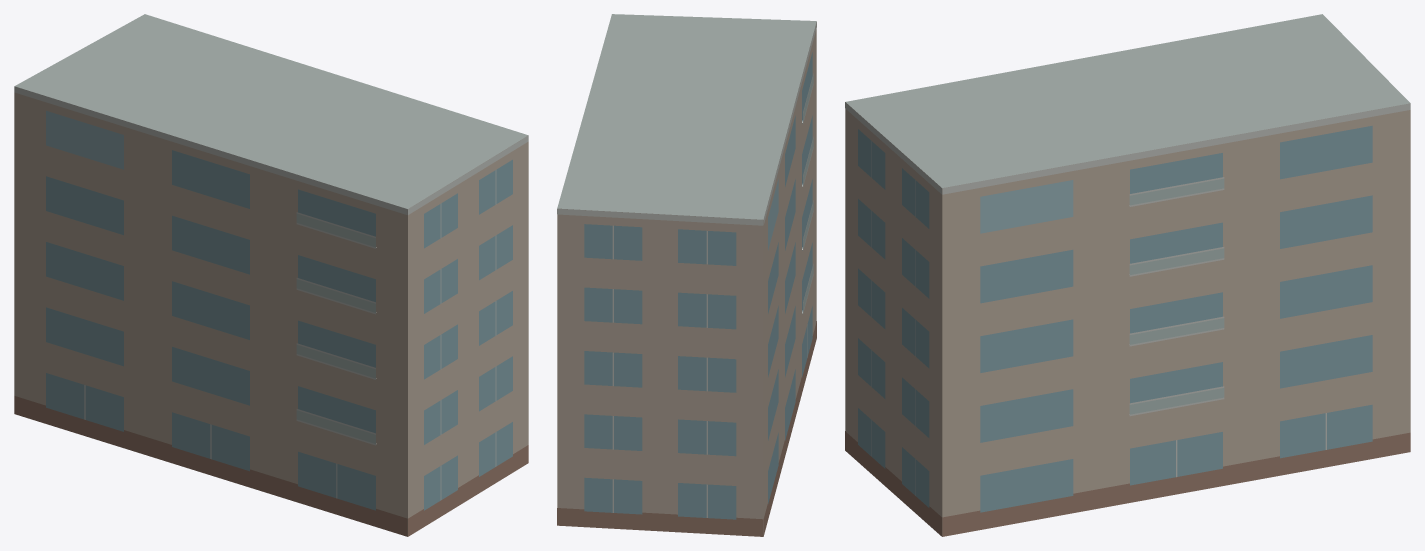
File: survey-upis-32593376.glb
3 renders of one model, left to right at view 1: azimuth 30°, elevation 25°; view 2: azimuth 150°, elevation 25°; view 3: azimuth 270°, elevation 25°, orthographic. The views are drawn at different scales.
Visible parts, largest first — view 1: survey-upis-32593376.tmp; view 2: survey-upis-32593376.tmp; view 3: survey-upis-32593376.tmp.
Boxes of the visible parts, x1,y1,x2,y2 form: survey-upis-32593376.tmp: [14, 14, 528, 536]; survey-upis-32593376.tmp: [557, 14, 816, 536]; survey-upis-32593376.tmp: [845, 14, 1410, 536].
Bounding box in the file's own units: 13.93 × 13 × 19.11.
